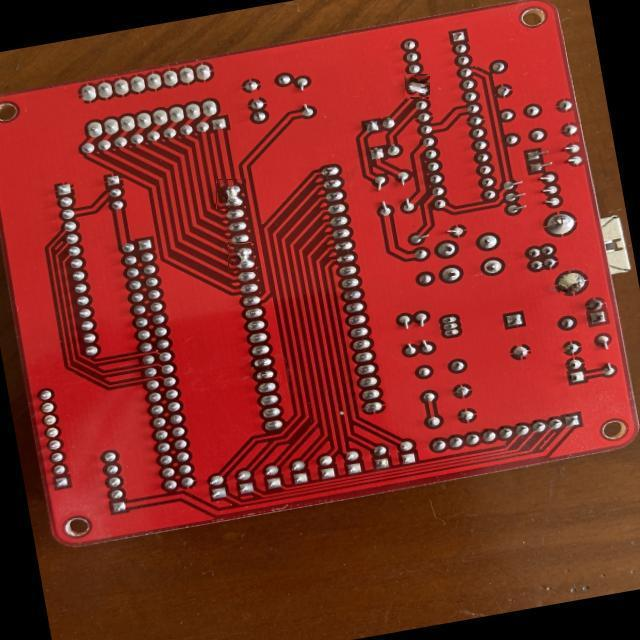damged: (216, 179, 246, 209), (228, 242, 256, 272), (406, 75, 430, 98)
